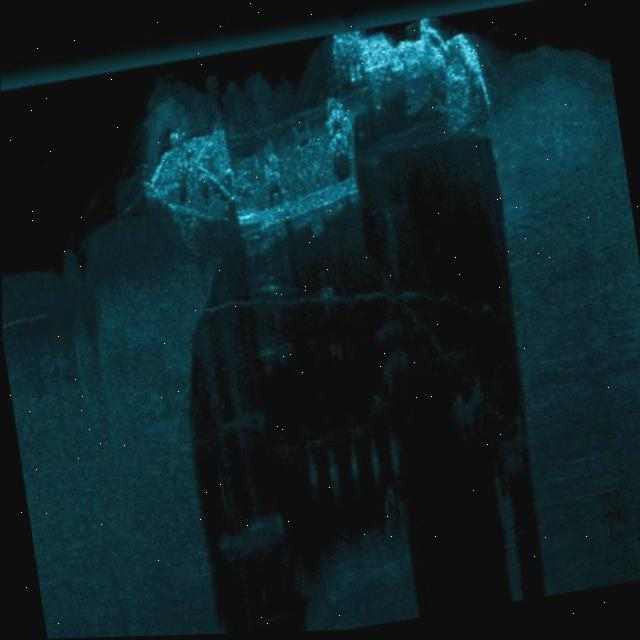shipwreck: (117, 10, 510, 250)
